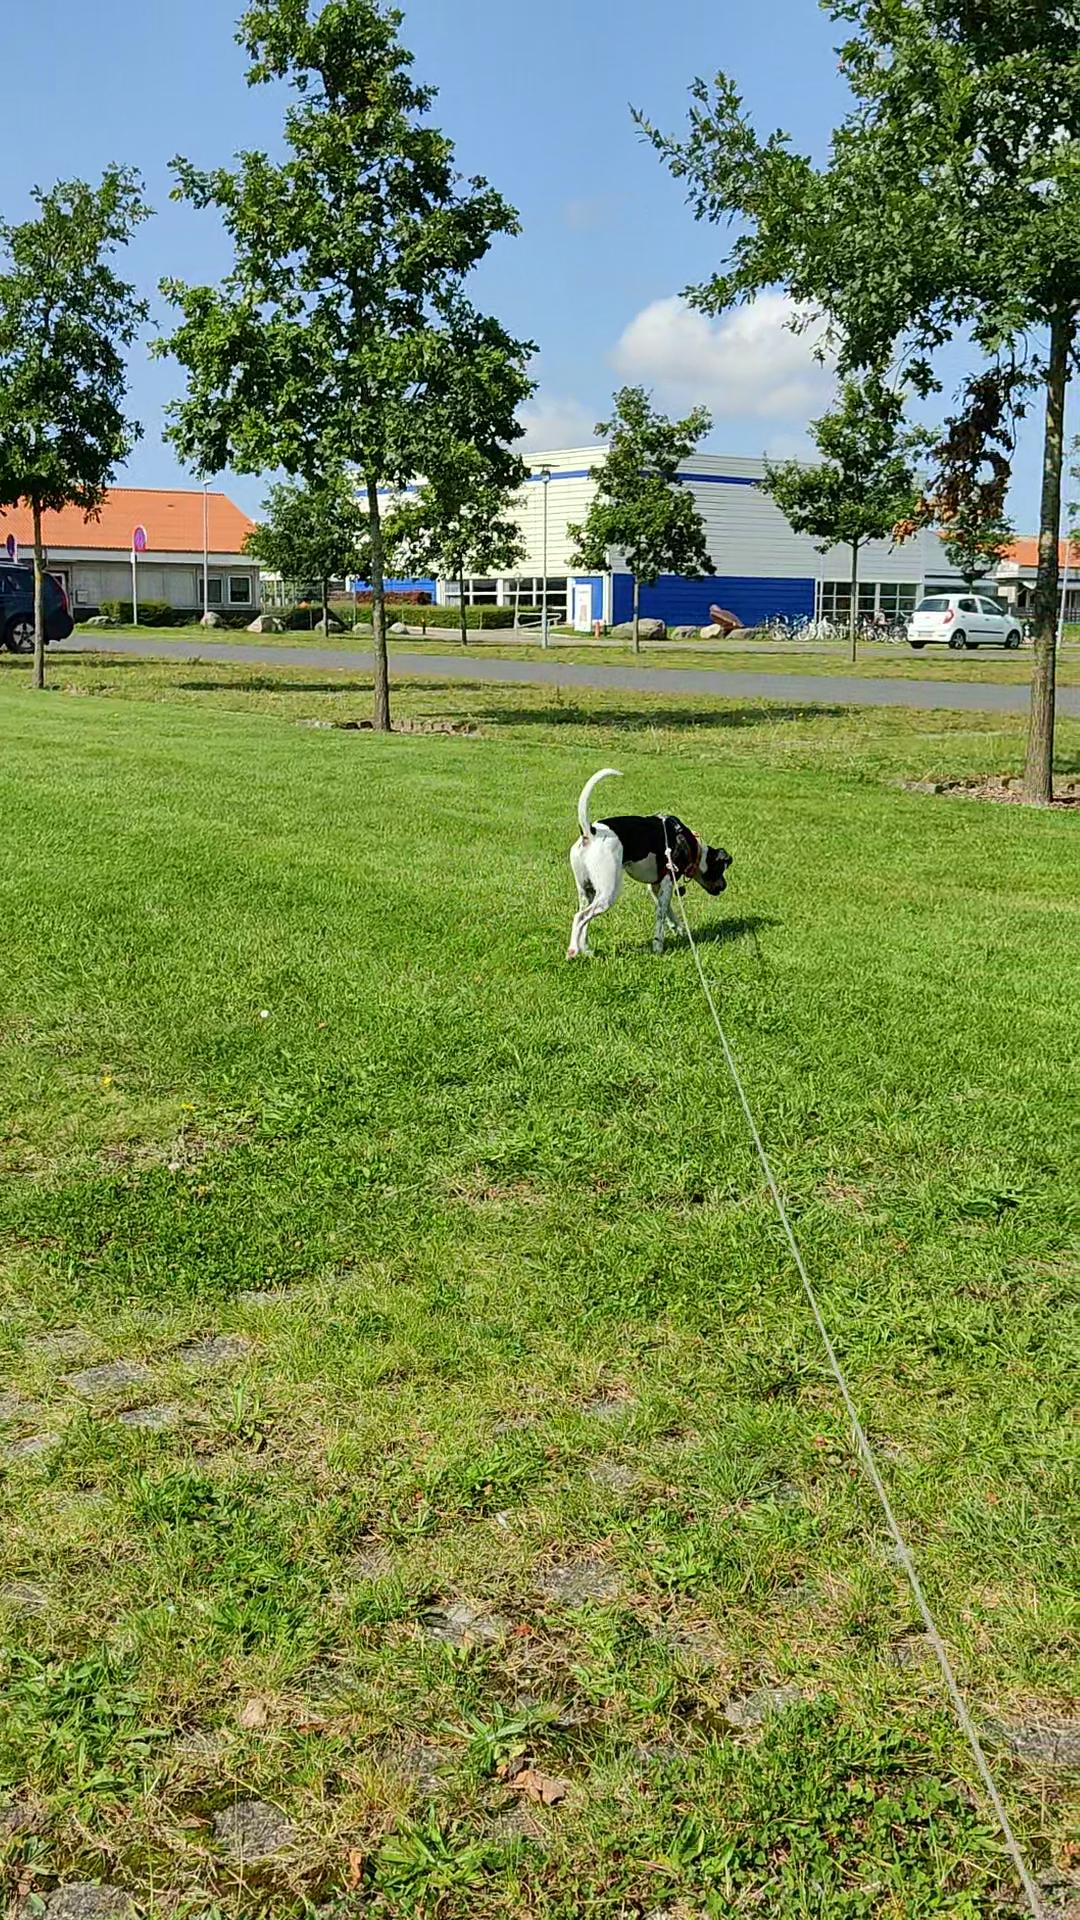Dog: (551, 756, 746, 964)
